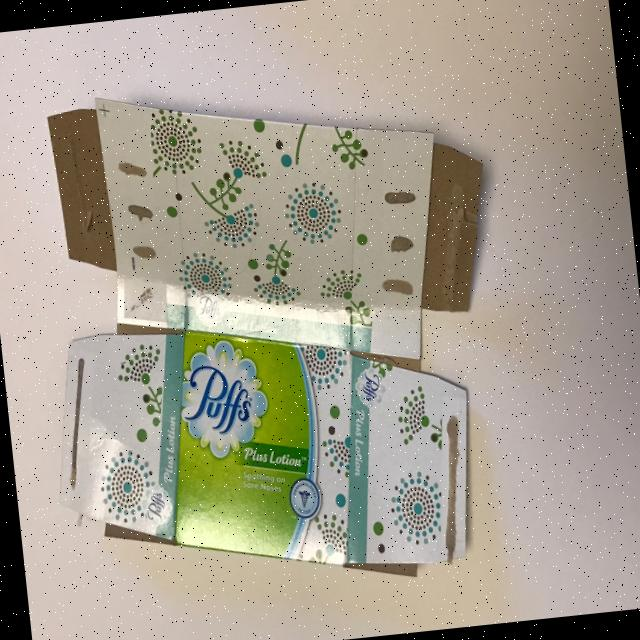paper: (42, 294, 484, 604), (92, 61, 458, 390)
